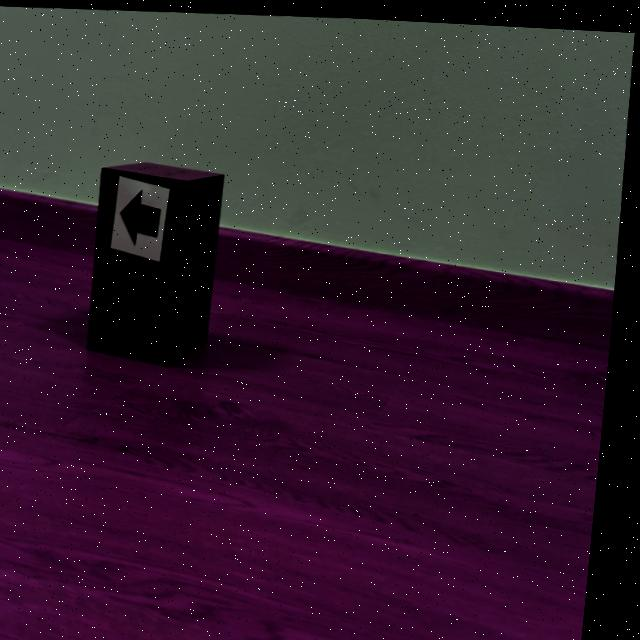LEFT: (125, 189, 164, 243)
